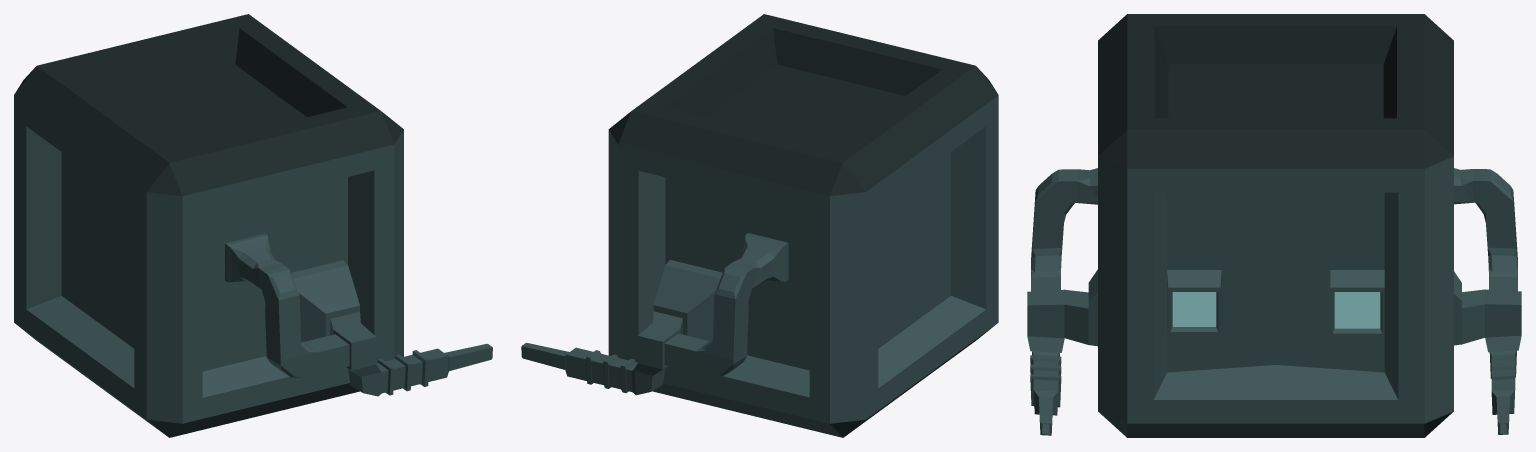
Rendered from enemy.glb.
3 views of the same model, side by side, from view 1: azimuth 30°, elevation 25°; view 2: azimuth 150°, elevation 25°; view 3: azimuth 270°, elevation 25° (orthographic). The views are drawn at different scales.
Parts seen in each view (by area): view 1: Cube; view 2: Cube; view 3: Cube.
Part boxes in pixels (x1=…): Cube: x1=14, y1=14, x2=492, y2=437; Cube: x1=521, y1=14, x2=998, y2=437; Cube: x1=1027, y1=14, x2=1521, y2=437.
Bounding box in the file's own units: 2.27 × 1.93 × 2.81.
Materials: 1 (1 with a texture image).
